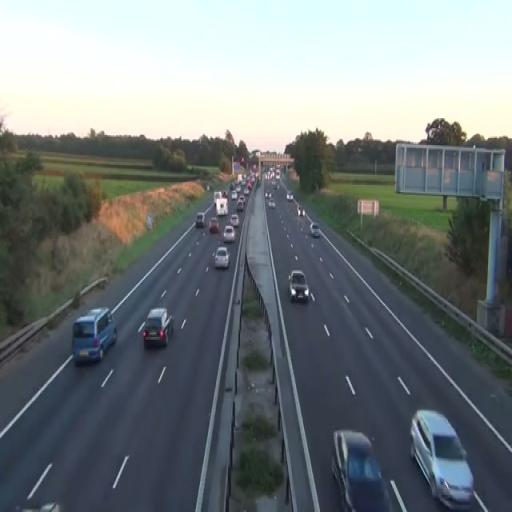Car: (409, 409, 475, 508), (331, 429, 391, 512), (72, 306, 117, 365), (141, 308, 174, 348), (288, 270, 309, 303), (213, 246, 231, 270), (222, 225, 236, 243), (236, 196, 246, 212), (228, 214, 239, 228), (209, 218, 219, 233), (196, 213, 205, 228)
Truck: (214, 191, 228, 216)
